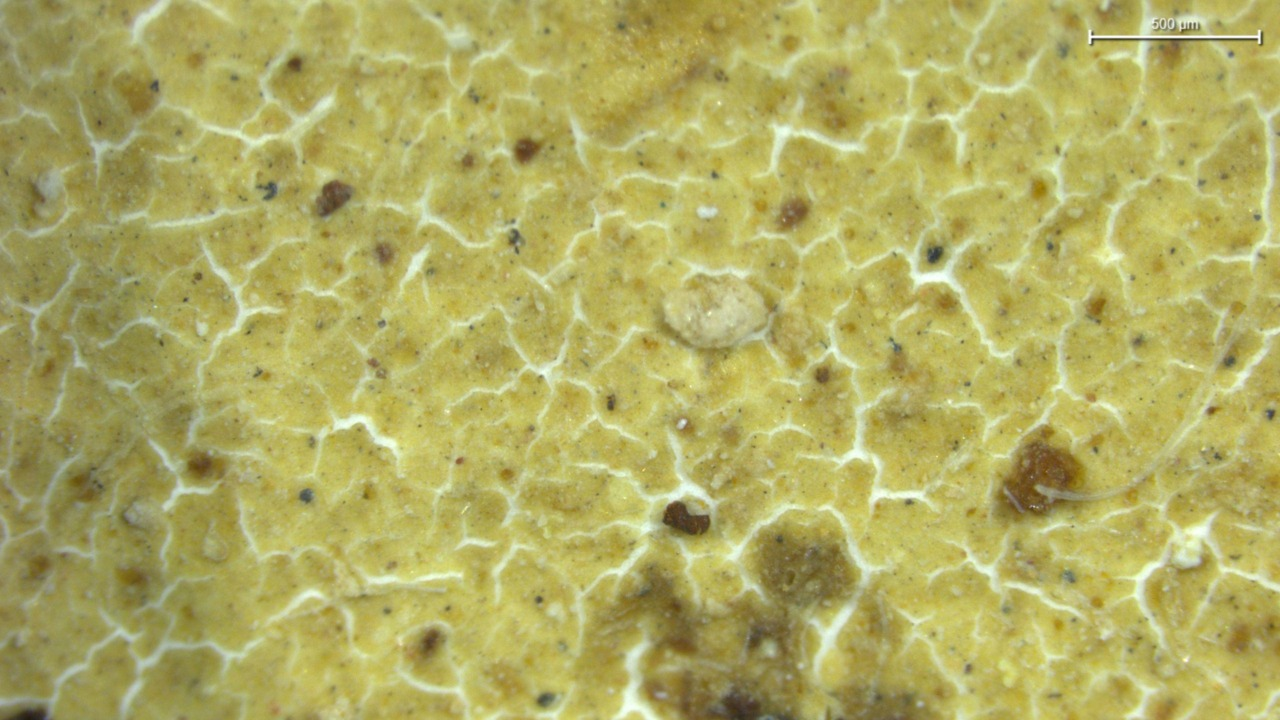microplastic_fragment: (662, 274, 769, 349), (1170, 526, 1209, 569)
